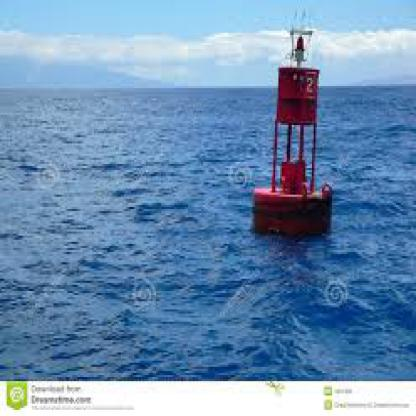buoy: (245, 2, 345, 240)
